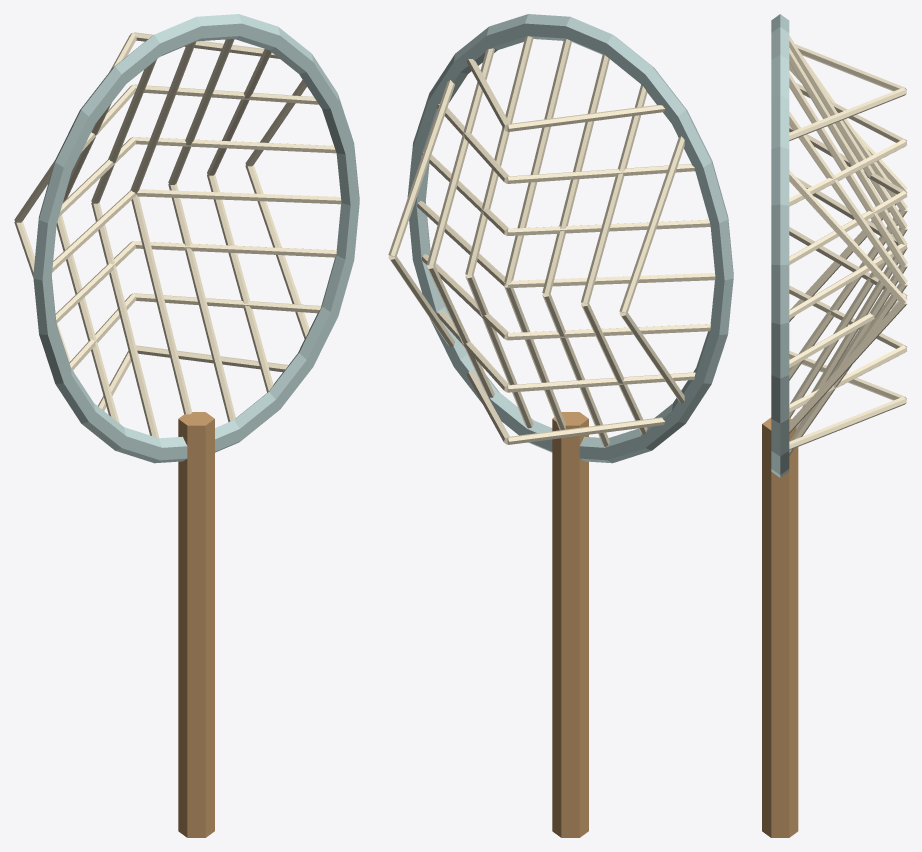
Rendered from landing_net_quiet_lake_fishing_22400.glb.
The picture shows the model from 3 angles, left to right: view 1: azimuth 30°, elevation 25°; view 2: azimuth 150°, elevation 25°; view 3: azimuth 270°, elevation 25°; orthographic projection.
Visible parts, largest first — view 1: cream, silver, wood; view 2: cream, silver, wood; view 3: cream, wood, silver.
Boxes of the visible parts, left/top/right/bottom form: cream: left=14, top=32, right=341, bottom=437; silver: left=33, top=14, right=359, bottom=463; wood: left=178, top=412, right=214, bottom=837; cream: left=388, top=36, right=715, bottom=446; silver: left=407, top=14, right=733, bottom=463; wood: left=552, top=412, right=588, bottom=837; cream: left=789, top=35, right=907, bottom=456; wood: left=762, top=417, right=798, bottom=837; silver: left=771, top=14, right=789, bottom=477.
Size of the model in its own units: 0.72 by 1.72 by 0.282.
